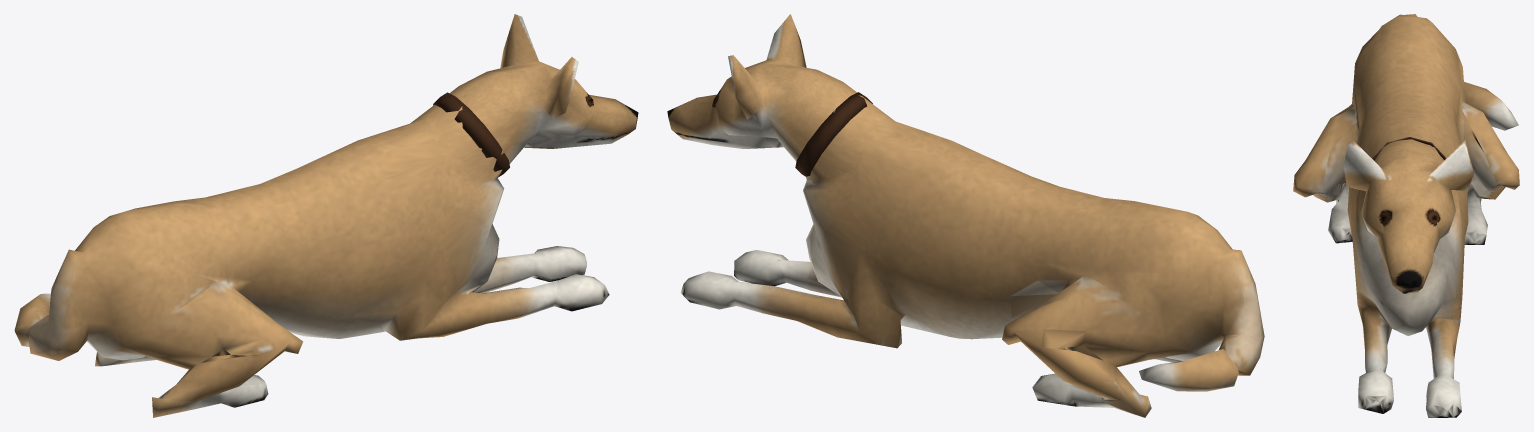
The model's file is dog_lie_lod1.glb.
3 views of the same model, side by side, from view 1: azimuth 30°, elevation 25°; view 2: azimuth 150°, elevation 25°; view 3: azimuth 270°, elevation 25° (orthographic). The views are drawn at different scales.
Visible parts, largest first — view 1: dog_lie_lod1_mesh; view 2: dog_lie_lod1_mesh; view 3: dog_lie_lod1_mesh.
Part boxes in pixels (x1,y1,x2,y2): dog_lie_lod1_mesh: (14, 14, 638, 417); dog_lie_lod1_mesh: (667, 14, 1264, 417); dog_lie_lod1_mesh: (1293, 14, 1519, 417).
Bounding box in the file's own units: 0.911 × 0.3808 × 0.3064.
Materials: 1 (1 with a texture image).
